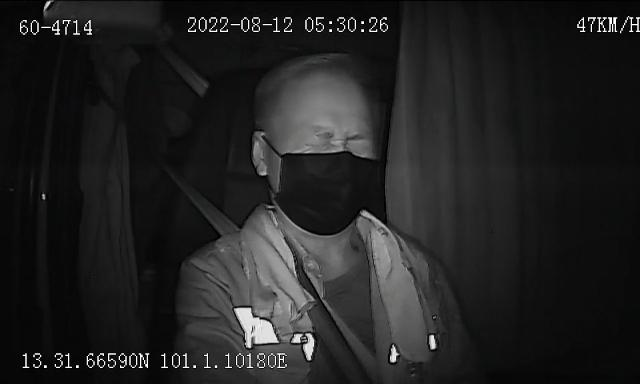Seatbelt: (171, 172, 301, 384)
